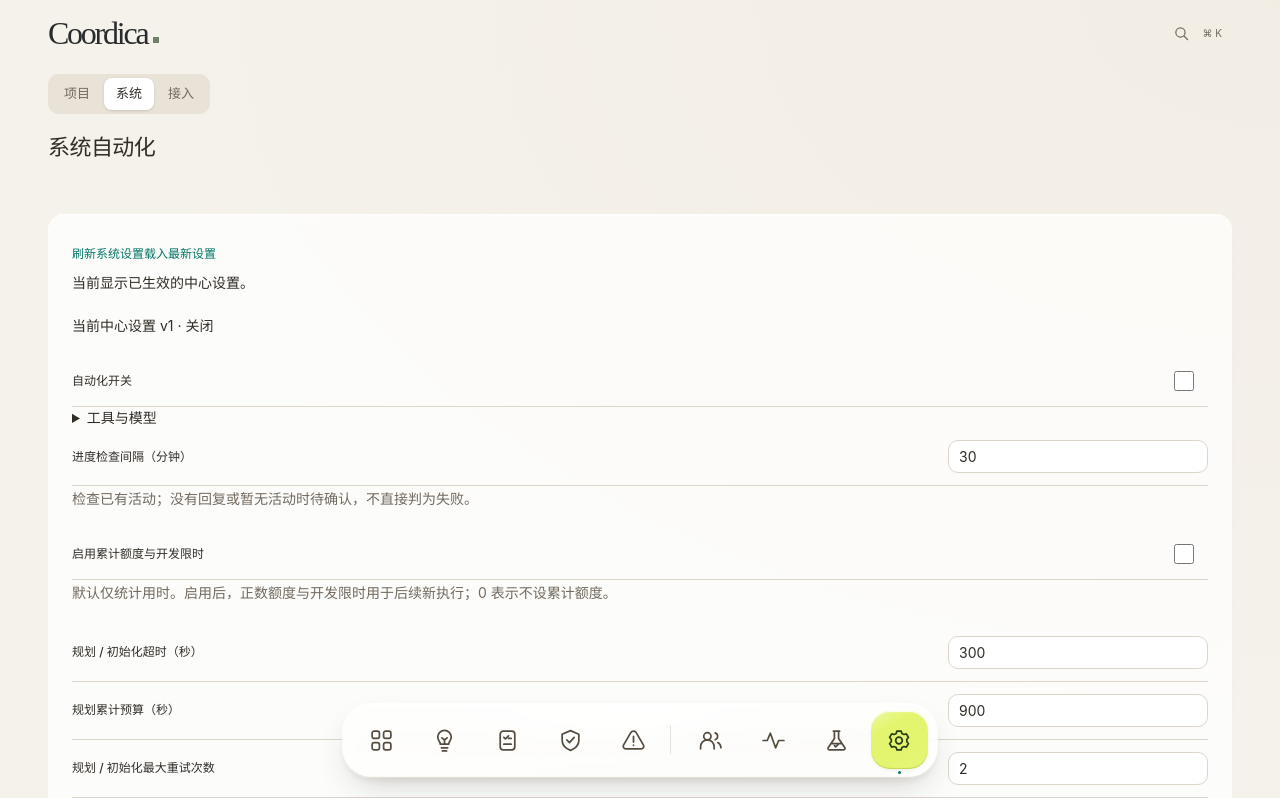
it: reports system save acceptance separately from the refreshed effective version
Replace the text in the number field labelled "规划 / 初始化超时（秒）" with "200" at (1078, 652), box [948, 636, 1208, 669]
(page scrolled)
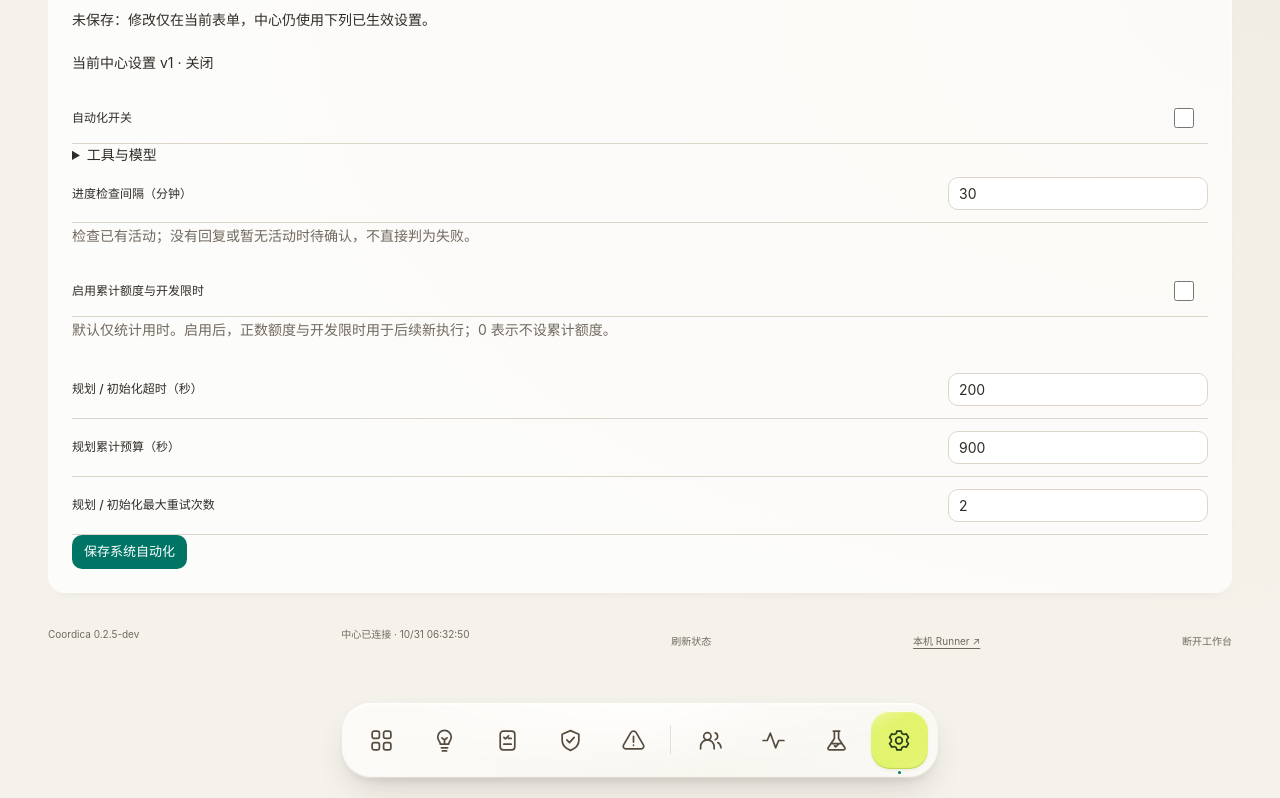
Click the button "保存系统自动化".
click(130, 552)  # box [72, 535, 187, 569]
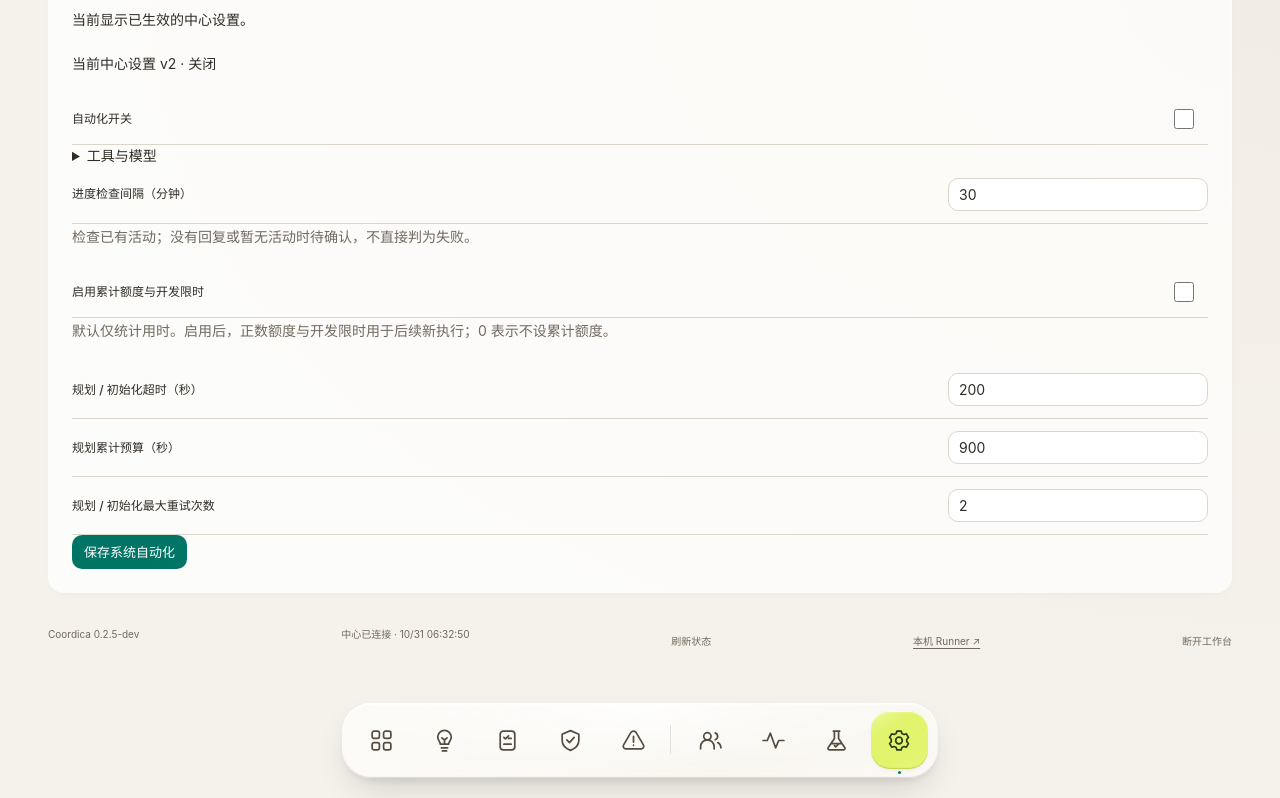
Expected: the checkbox labelled "自动化开关" is not checked, [1168, 109, 1200, 129]
Now the text "当前中心设置 v2 · 关闭" is shown, box [72, 55, 216, 72]
Now the text "当前显示已生效的中心设置。" is shown, box [72, 12, 254, 28]
